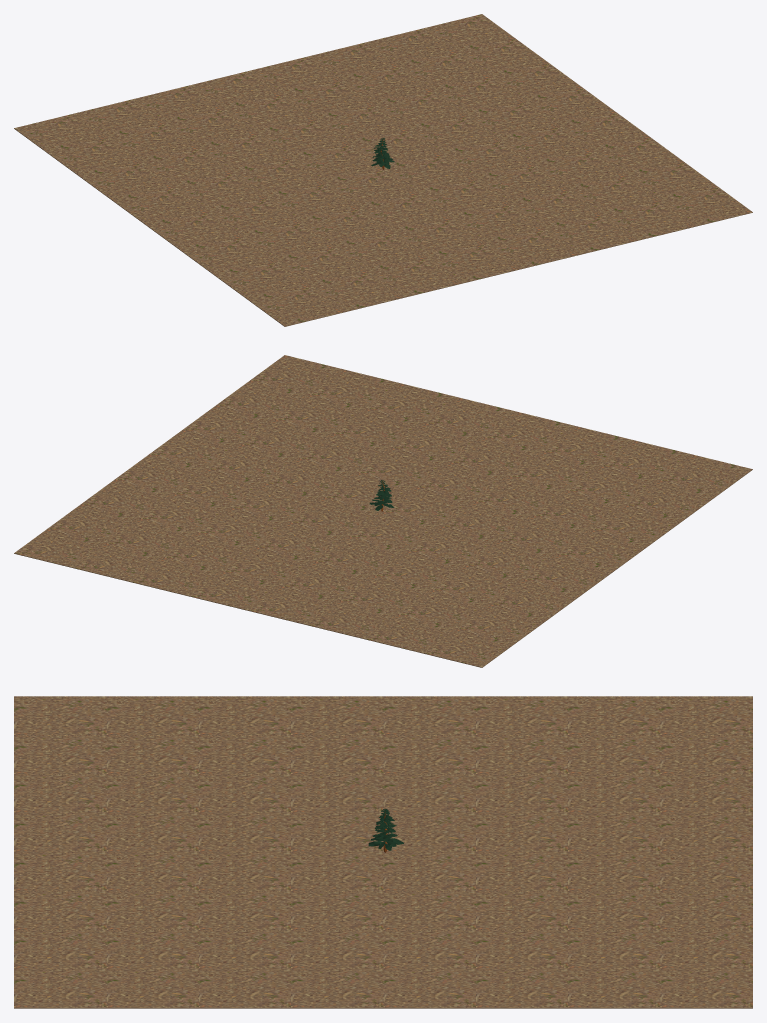
File: MAP.glb
3 renders of one model, top to bottom at view 1: azimuth 30°, elevation 25°; view 2: azimuth 150°, elevation 25°; view 3: azimuth 270°, elevation 25°, orthographic. The views are drawn at different scales.
Parts seen in each view (by area): view 1: Cube.019; view 2: Cube.019; view 3: Cube.019, Plane.049_51.
Boxes of the visible parts, x1,y1,x2,y2 form: Cube.019: [14, 14, 752, 326]; Cube.019: [14, 355, 752, 667]; Cube.019: [14, 696, 752, 1008]; Plane.049_51: [368, 809, 403, 852].
Size of what is drawn, in the model's own units: 140 by 9.19 by 140.
Materials: 3 (1 with a texture image).
